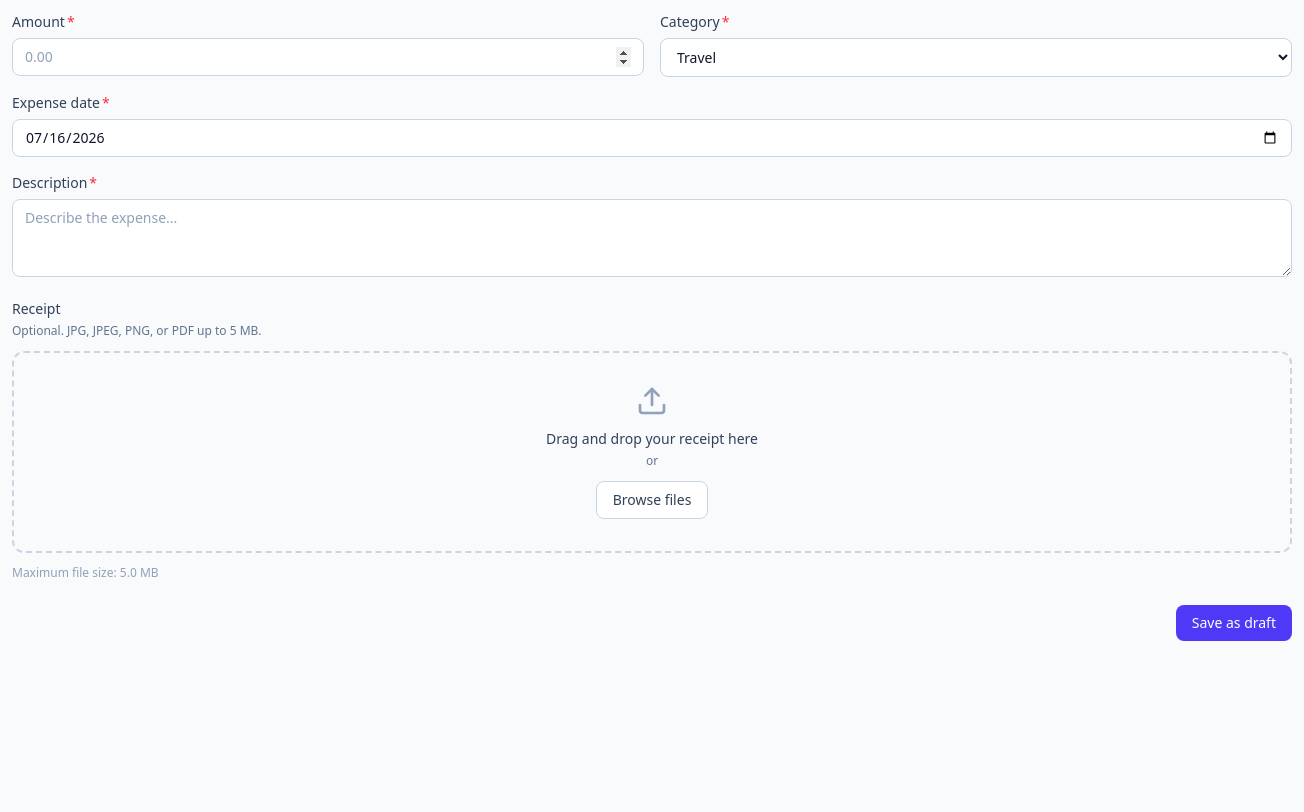
Test: Create claim workflow › shows validation errors when required fields are missing
Clear the number field labelled "Amount*". click: [328, 57]
box: top-left (12, 38), bottom-right (644, 76)
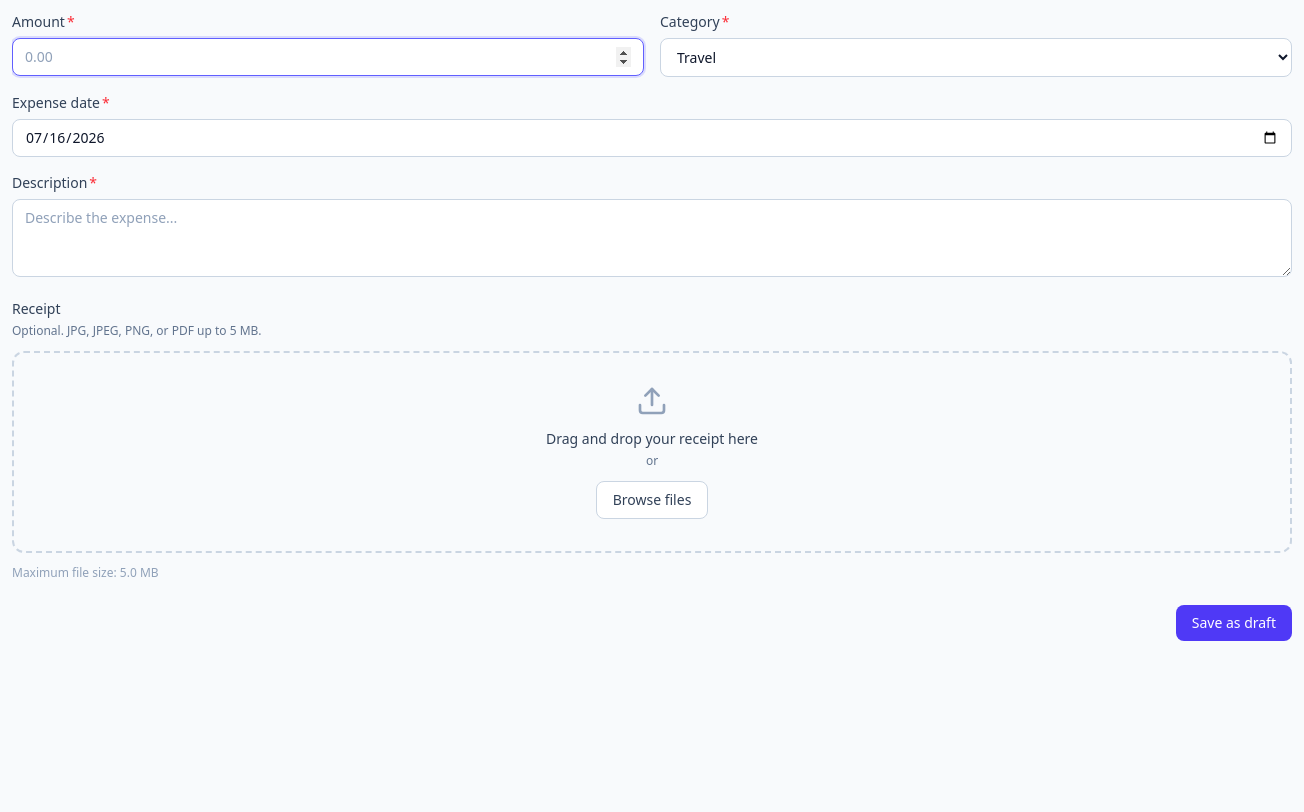
Clear the text box labelled "Description*". click: [652, 238]
box: top-left (12, 199), bottom-right (1292, 277)
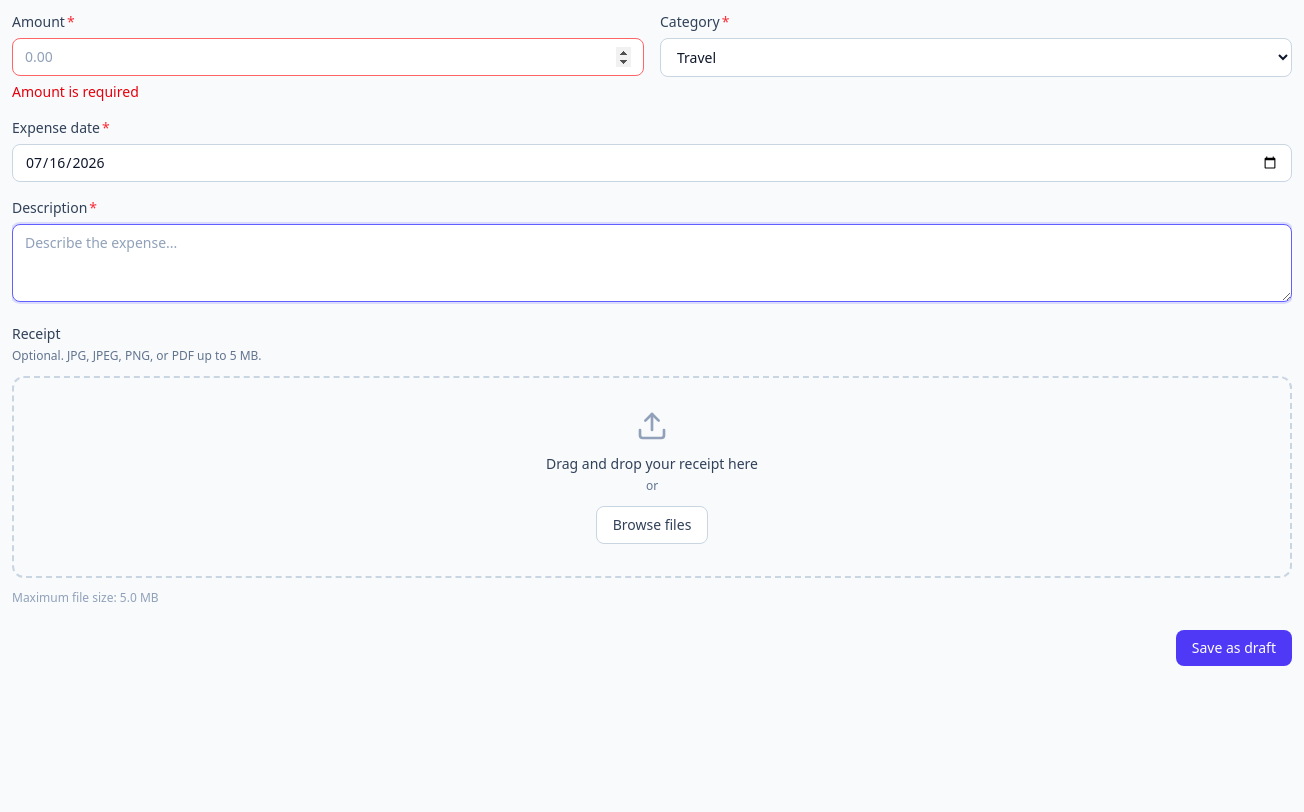
Click the button "Save as draft". click: [1234, 648]
box: top-left (1176, 630), bottom-right (1292, 666)
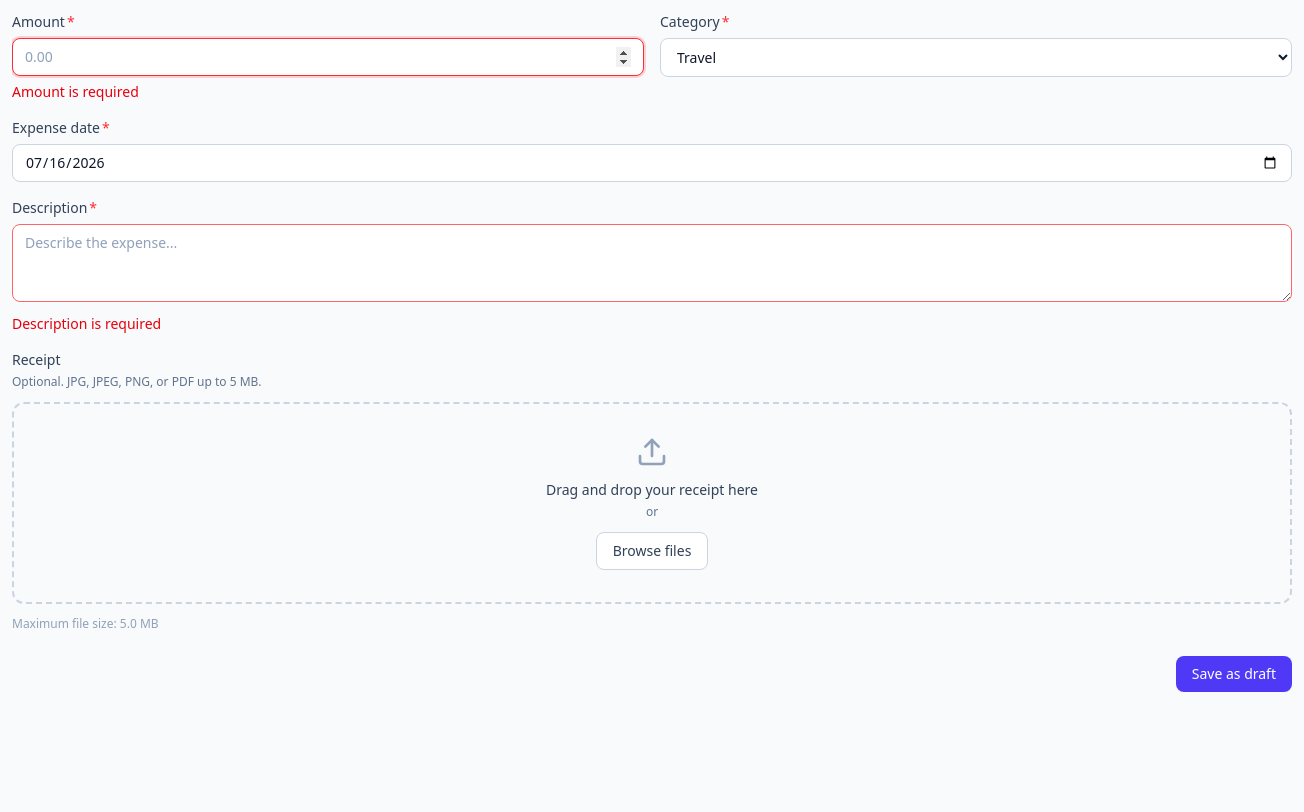
Check: the text "Amount is required" is shown, box top-left (12, 82), bottom-right (139, 101)
Check: the text "Description is required" is shown, box top-left (12, 314), bottom-right (161, 333)
